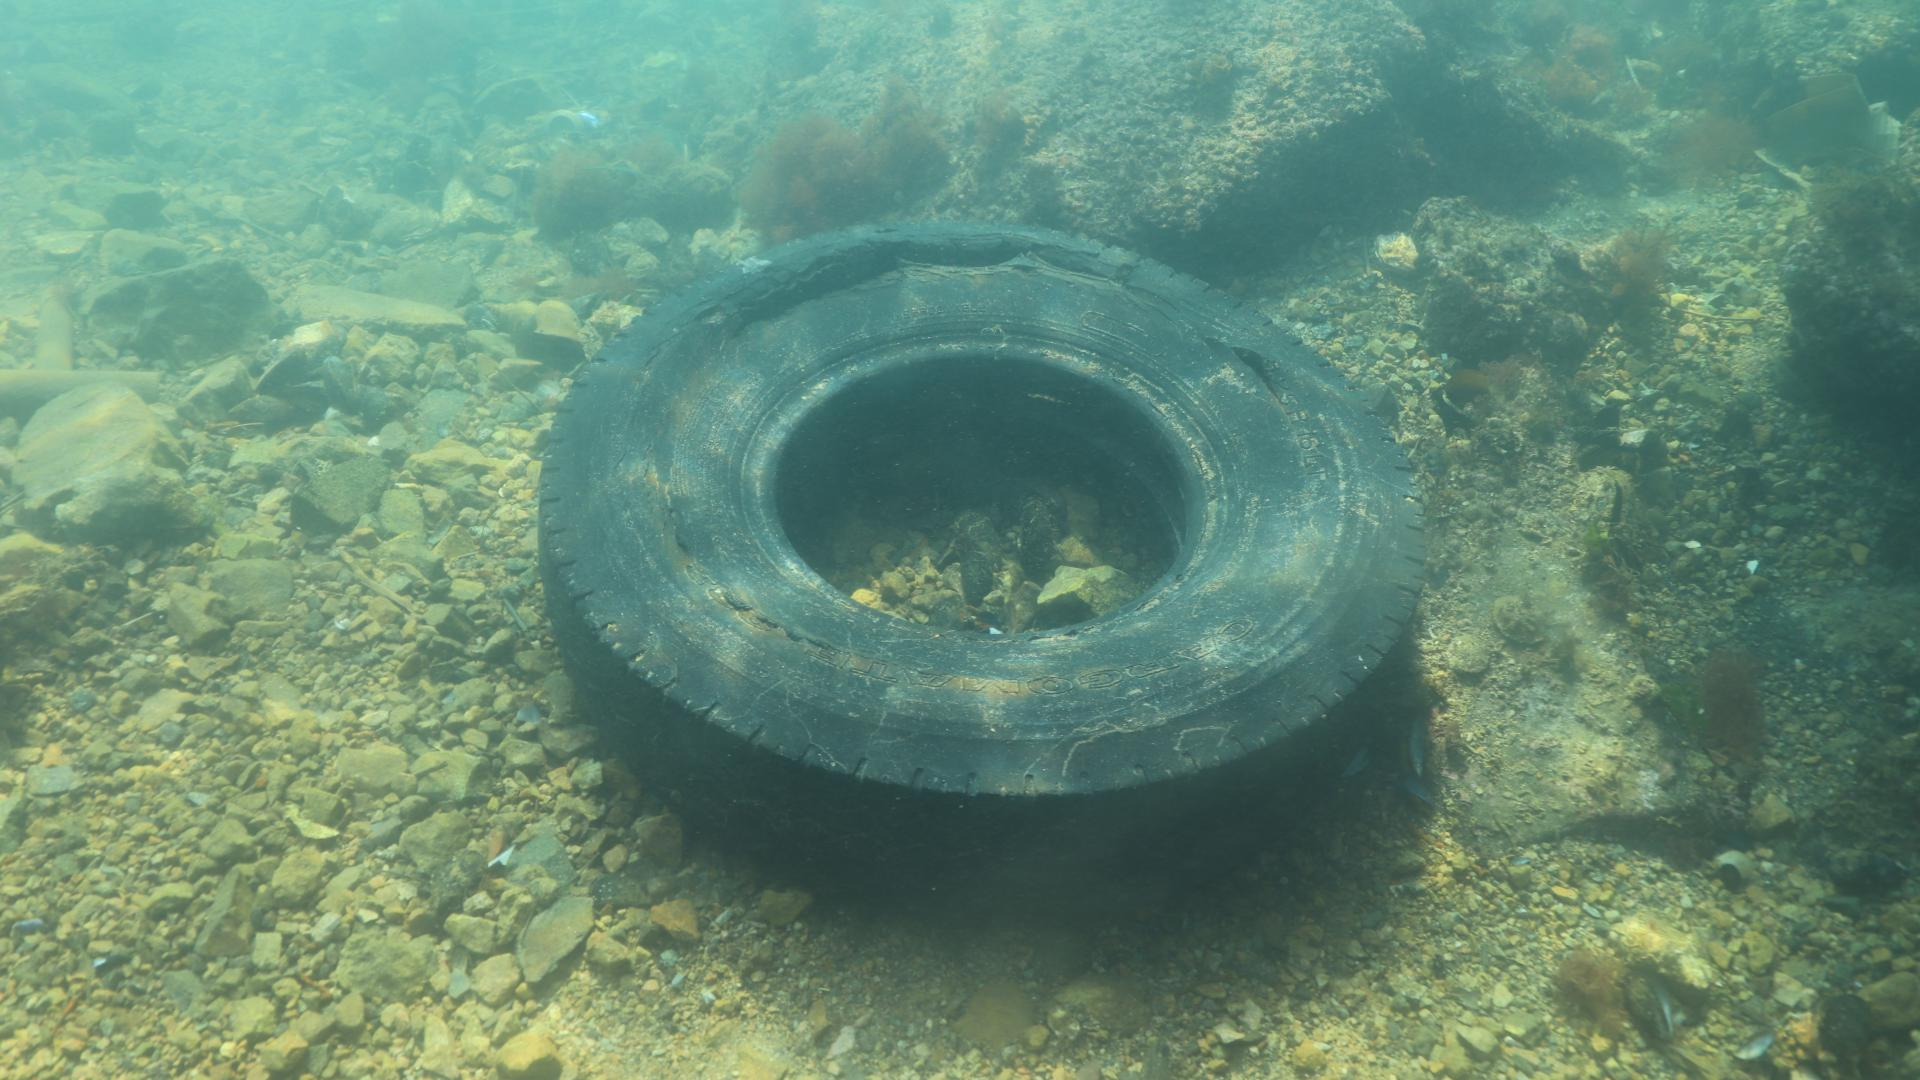tire: (535, 216, 1425, 918)
